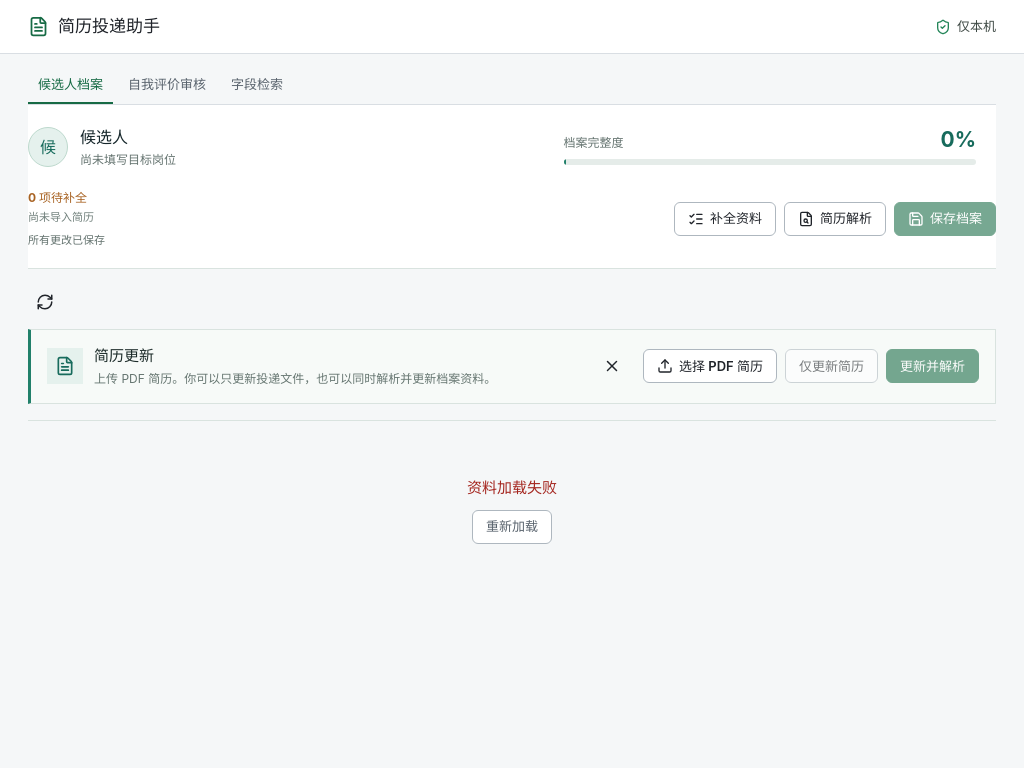
Scenario: ProfilePage loading states › shows a retryable load error
Check: the message "资料加载失败 重新加载" is shown, box [467,478,557,544]
Click the button "重新加载": (512, 527) [472,510,552,544]
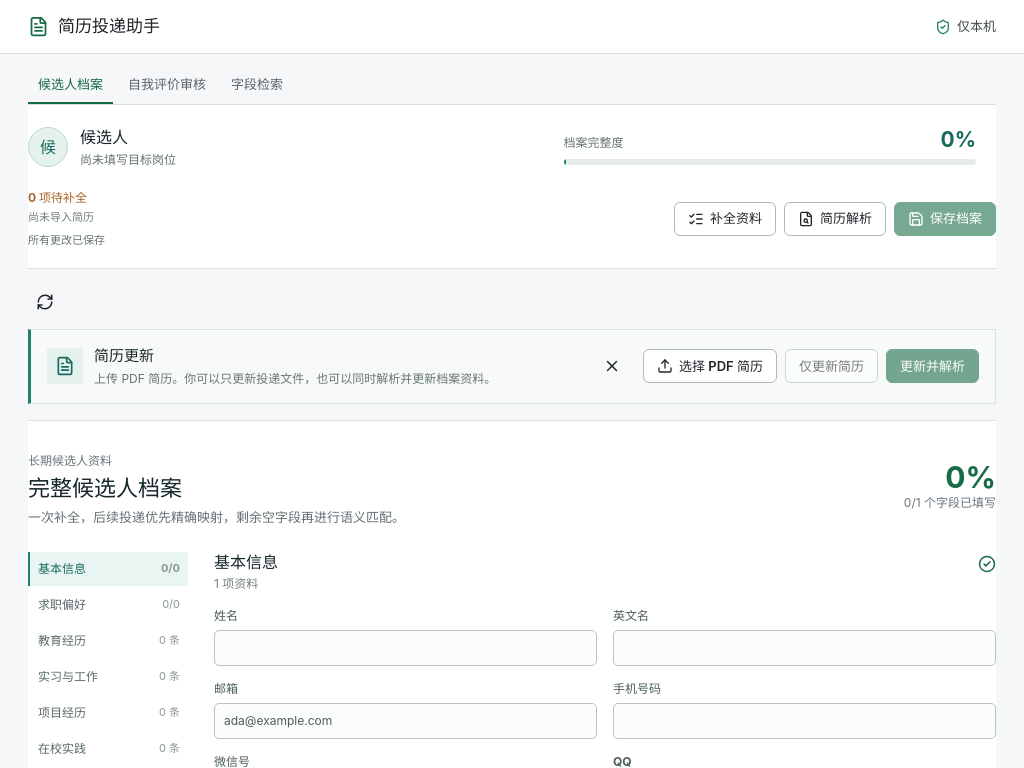
Check: the field labelled "邮箱" holds "ada@example.com", box [214,703,597,739]
